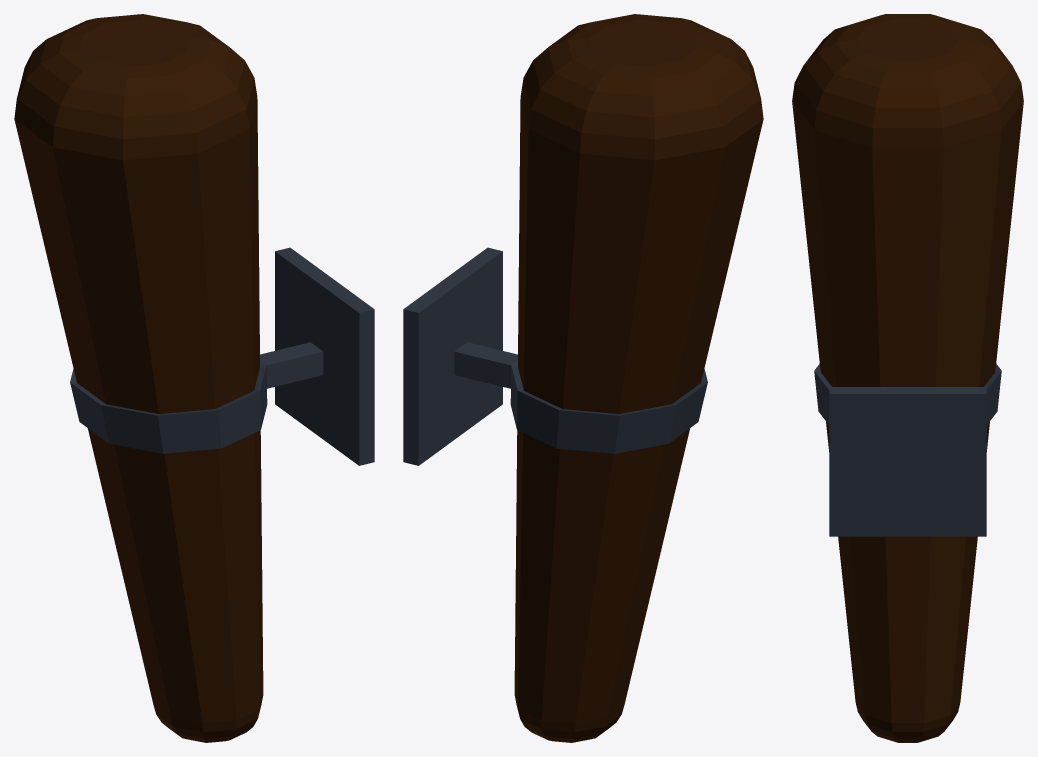
File: Torch.fbx
3 renders of one model, left to right at view 1: azimuth 30°, elevation 25°; view 2: azimuth 150°, elevation 25°; view 3: azimuth 270°, elevation 25°, orthographic. The views are drawn at different scales.
Parts seen in each view (by area): view 1: Cylinder, Cube; view 2: Cylinder, Cube; view 3: Cylinder, Cube.
Boxes of the visible parts, x1,y1,x2,y2 form: Cylinder: [14, 14, 267, 742]; Cube: [260, 247, 374, 465]; Cylinder: [510, 14, 763, 742]; Cube: [403, 247, 517, 465]; Cylinder: [792, 14, 1023, 742]; Cube: [829, 387, 986, 536].
Size of the model in its own units: 48.86 by 110 by 35.19.
